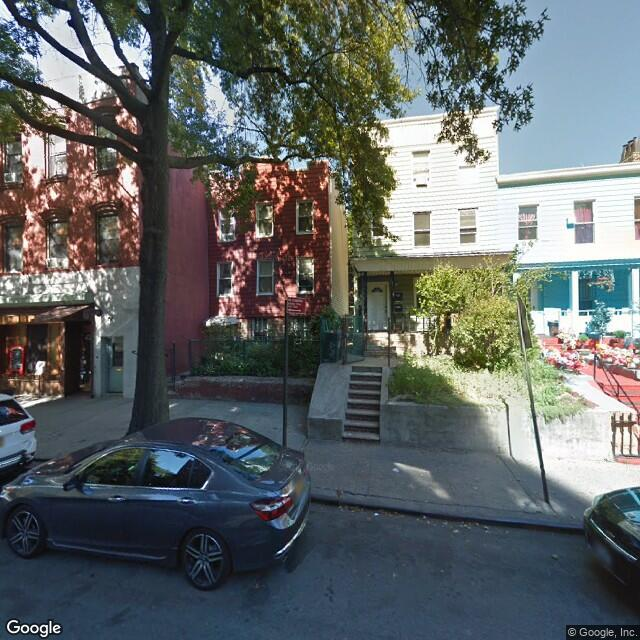litter: (357, 489, 383, 522), (385, 465, 420, 482)
